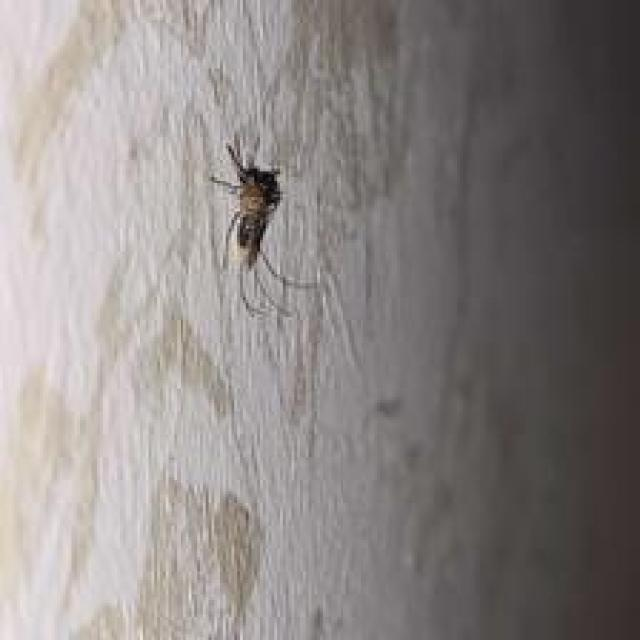Culex: (209, 133, 317, 321)
